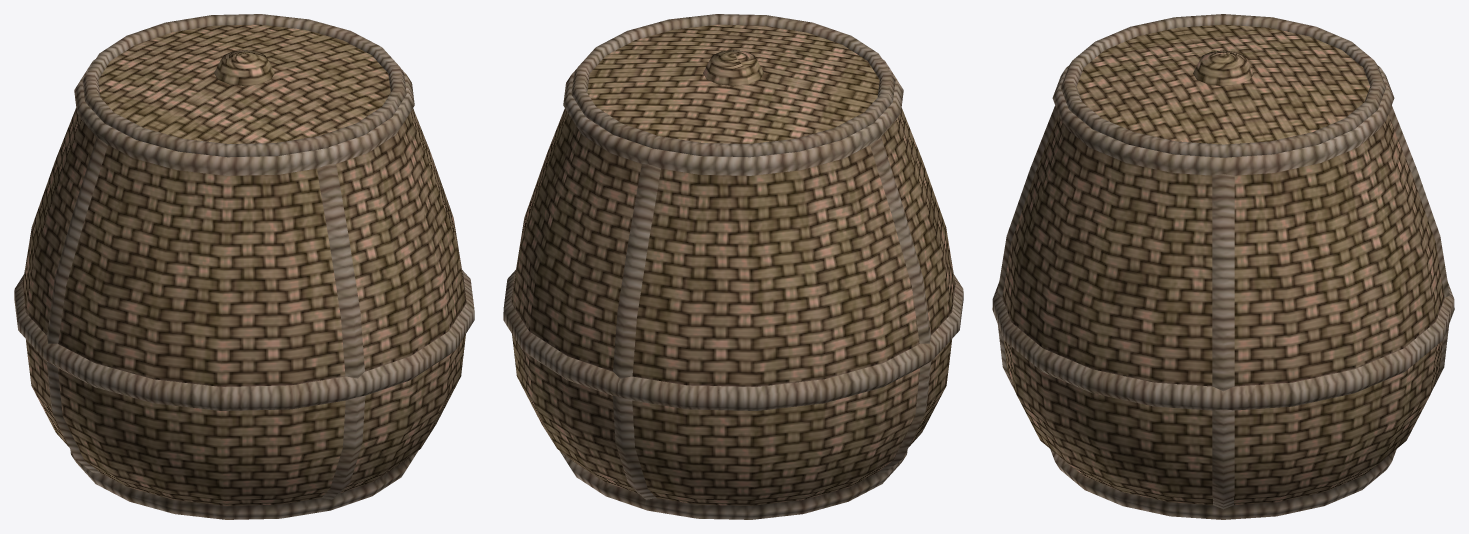
File: village_wicker_basket_02.fbx
The picture shows the model from 3 angles, left to right: view 1: azimuth 30°, elevation 25°; view 2: azimuth 150°, elevation 25°; view 3: azimuth 270°, elevation 25°; orthographic projection.
Visible parts, largest first — view 1: village_wicker_basket_02_body, village_wicker_basket_02_top; view 2: village_wicker_basket_02_body, village_wicker_basket_02_top; view 3: village_wicker_basket_02_body, village_wicker_basket_02_top.
Boxes of the visible parts, x1,y1,x2,y2 form: village_wicker_basket_02_body: [14, 59, 474, 519]; village_wicker_basket_02_top: [82, 14, 406, 157]; village_wicker_basket_02_body: [503, 59, 963, 519]; village_wicker_basket_02_top: [571, 14, 895, 157]; village_wicker_basket_02_body: [992, 66, 1454, 519]; village_wicker_basket_02_top: [1060, 14, 1385, 157].
Size of the model in its own units: 74.29 by 69.73 by 74.29.
